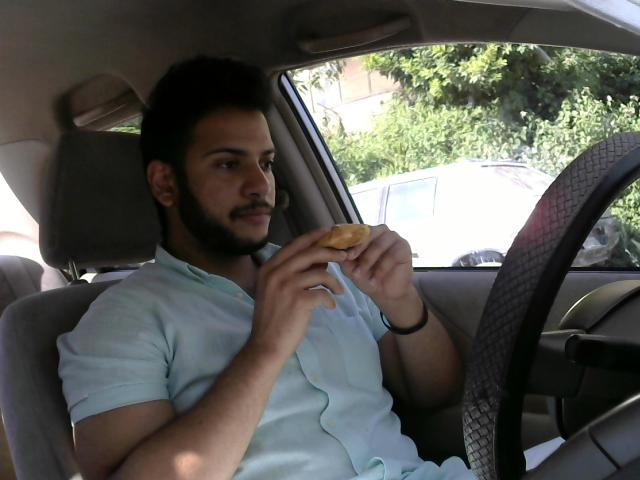Eating: (303, 214, 383, 263)
